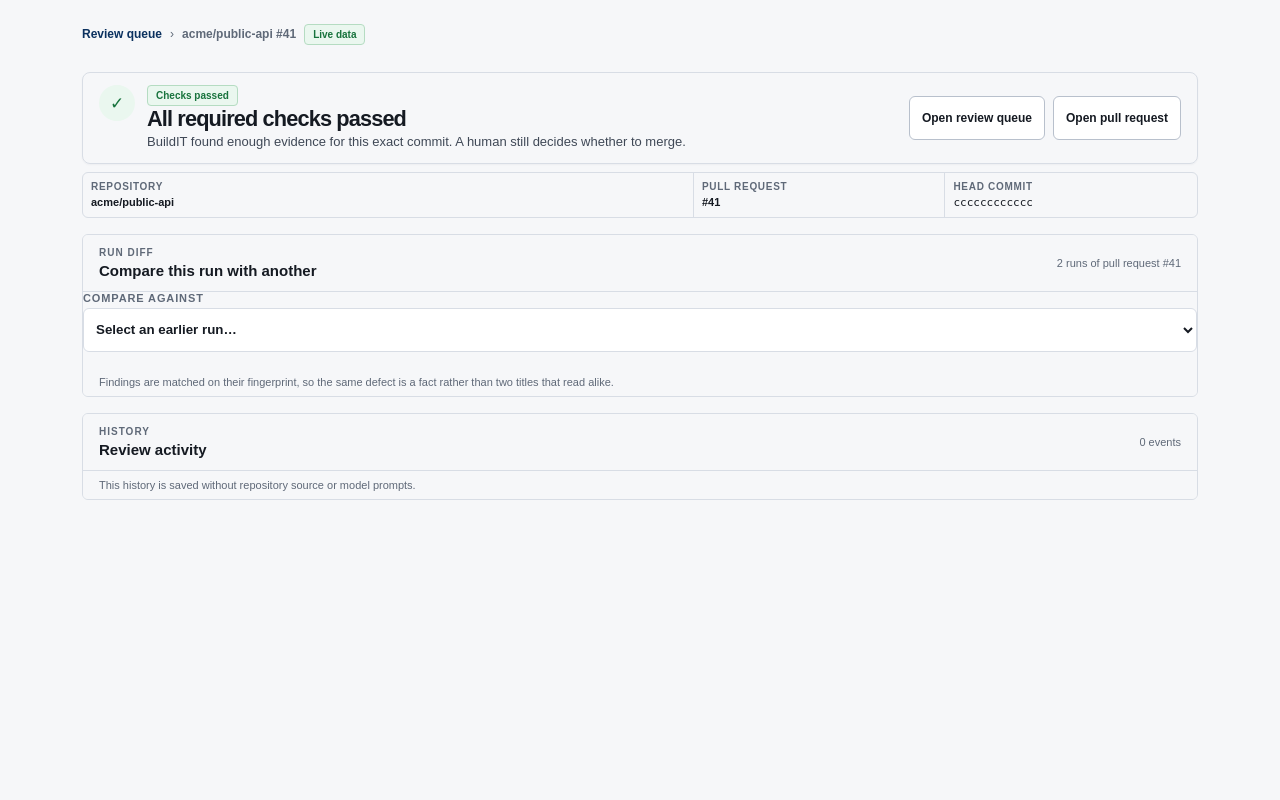
Test: comparing two runs of one pull request › renders what compareRuns reports changed, in prose rather than database words
Select "11/14/2023, 10:13:20 PM · aaaaaaa · Changes requested · $0.4000" in the dropdown labelled "Compare against": x=640, y=330 [83,308,1197,352]
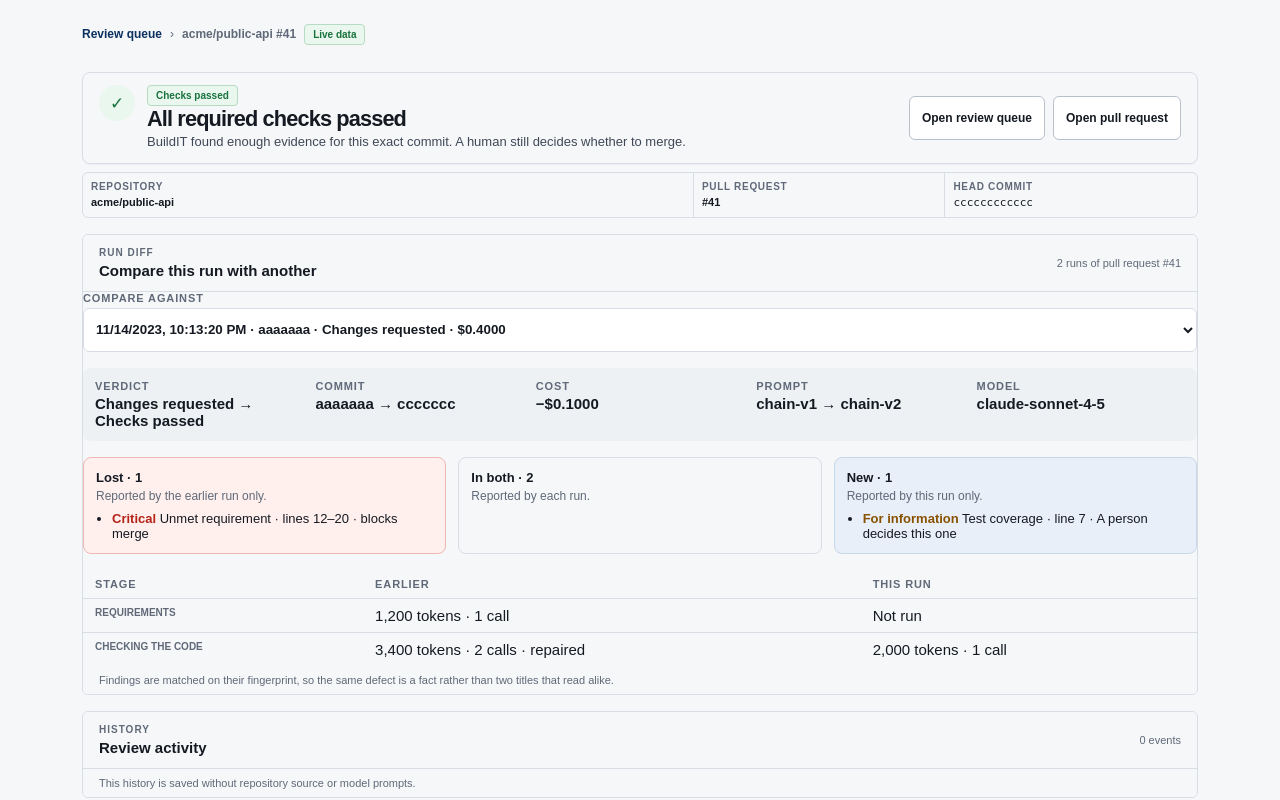
Result: the text "Changes requested → Checks passed" is shown at [95,395,253,429]
Result: the text "aaaaaaa → ccccccc" is shown at [315,395,456,412]
Result: the text "−$0.1000" is shown at [536,395,599,412]
